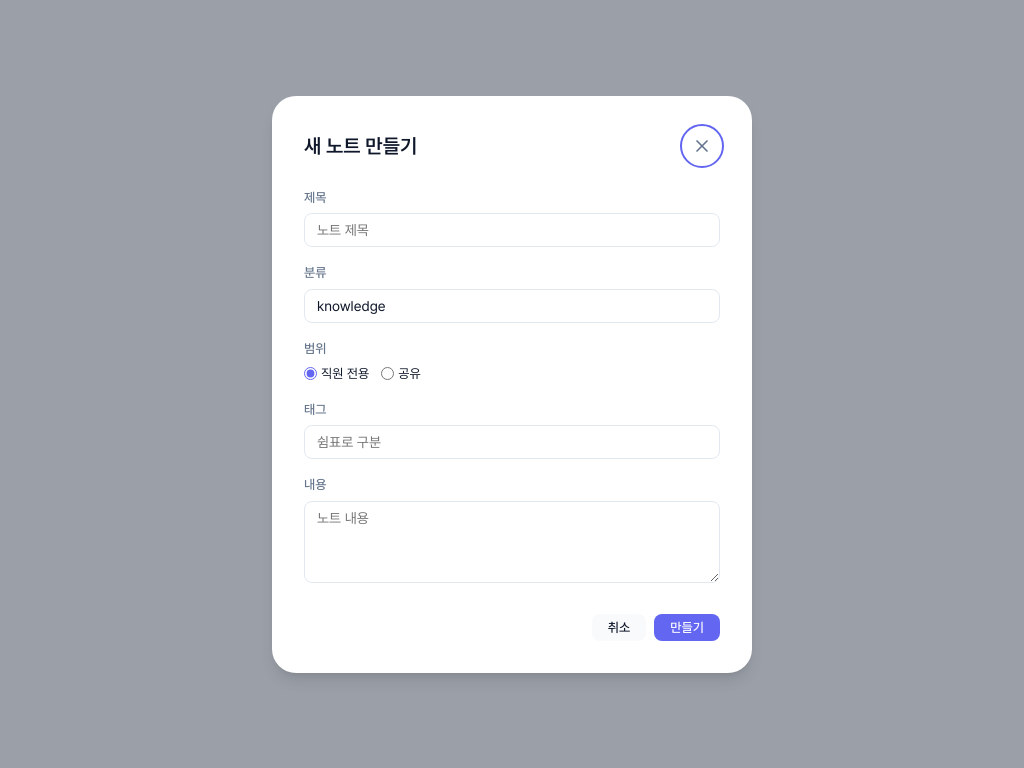
CreateNoteDialog › shows fallback error when createNote fails with non-Error
Type "My Note" into the field with placeholder "노트 제목".
click(512, 230); type("My Note")  # box 304,213 -> 720,247
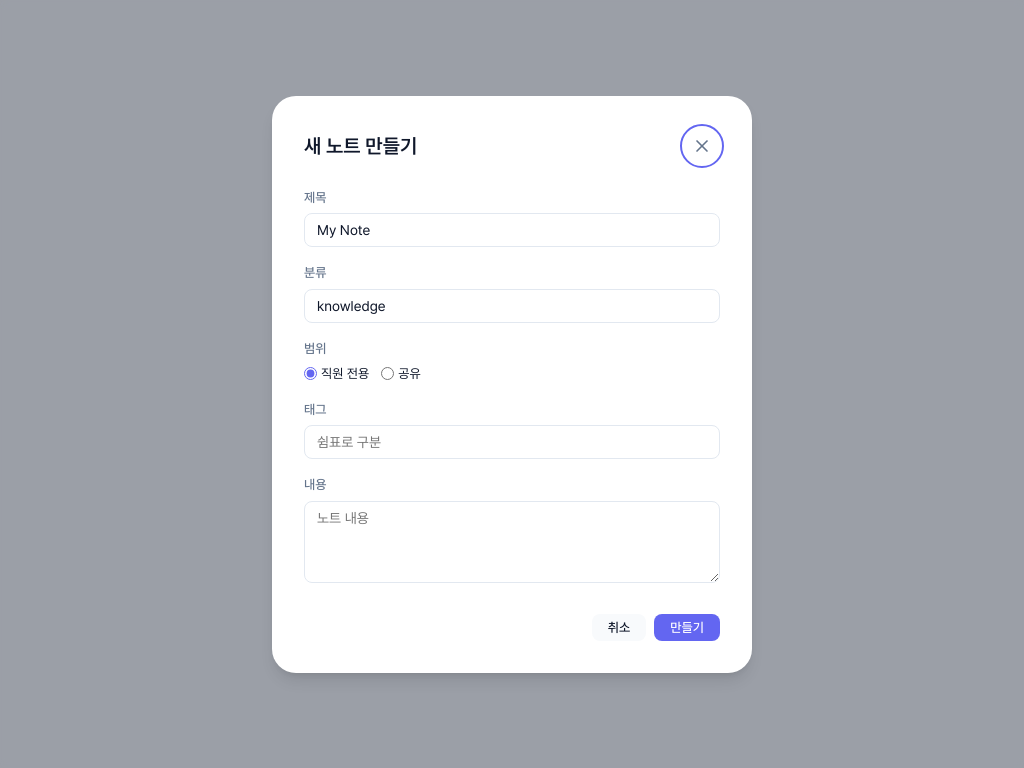
Click the button "만들기".
click(687, 627)  # box 654,614 -> 720,640
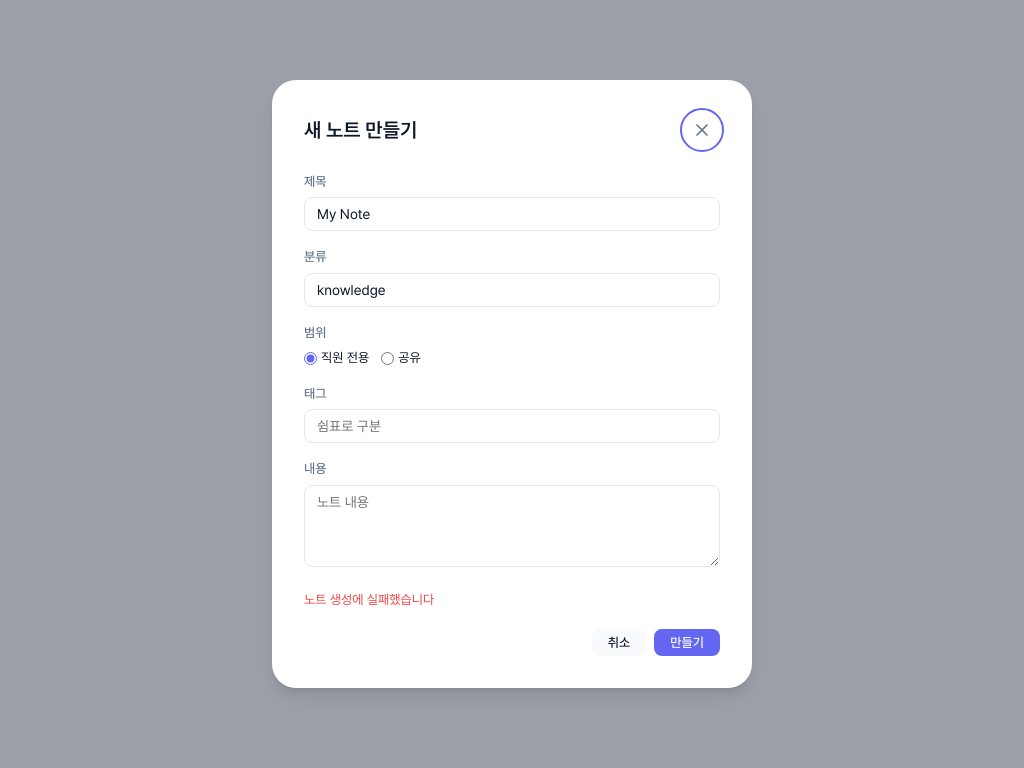
Check: the text "노트 생성에 실패했습니다" is shown, box 304,592 -> 434,607
